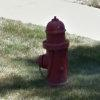Hydrant: (26, 11, 77, 92)
